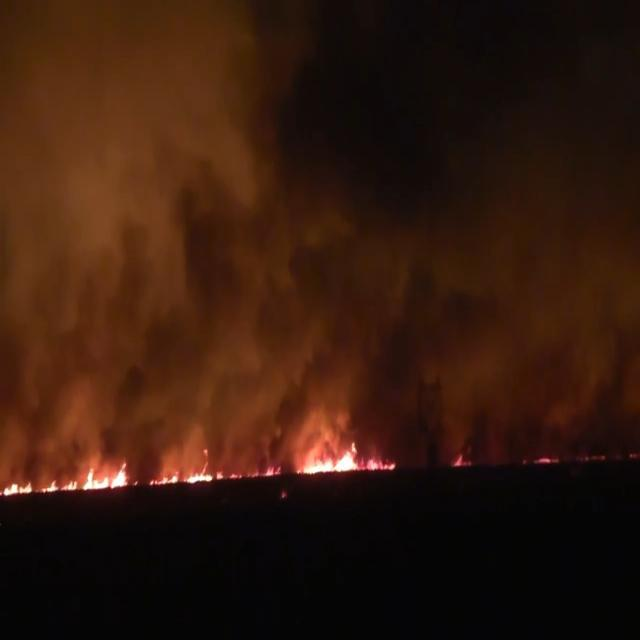Fire: (0, 417, 394, 507)
